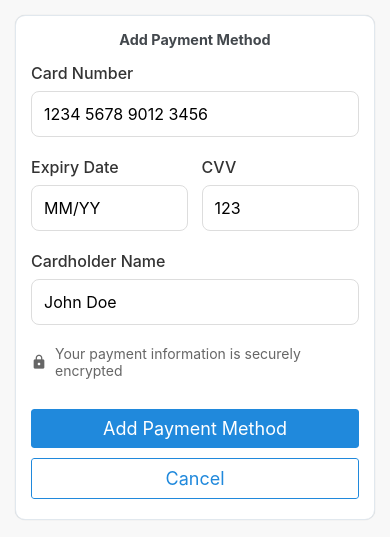
Scenario: AddPaymentMethodScreen › limits CVV to 4 digits
Type "12345" into the password field with placeholder "123" at (280, 208), box [202,185,359,231]
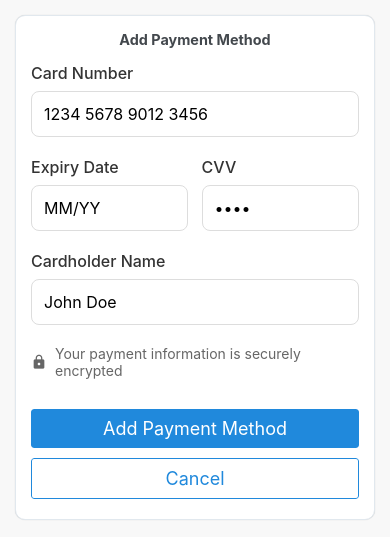
Check: the password field with placeholder "123" holds "1234", box [202,185,359,231]
